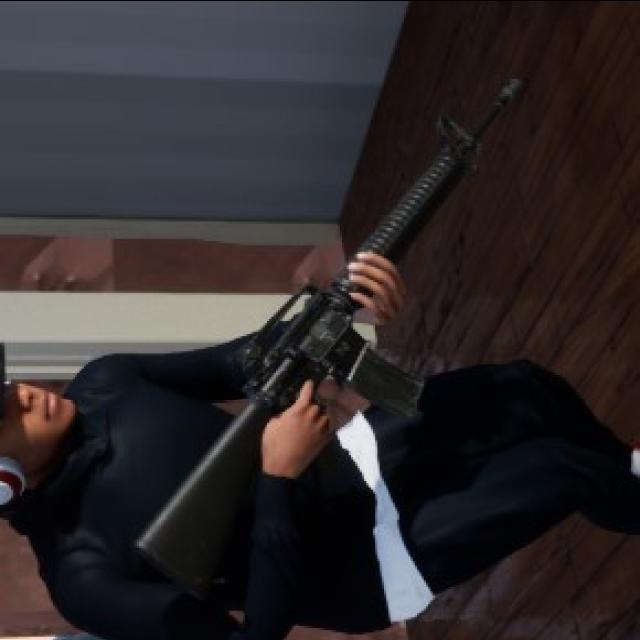rifle: (140, 73, 530, 597)
